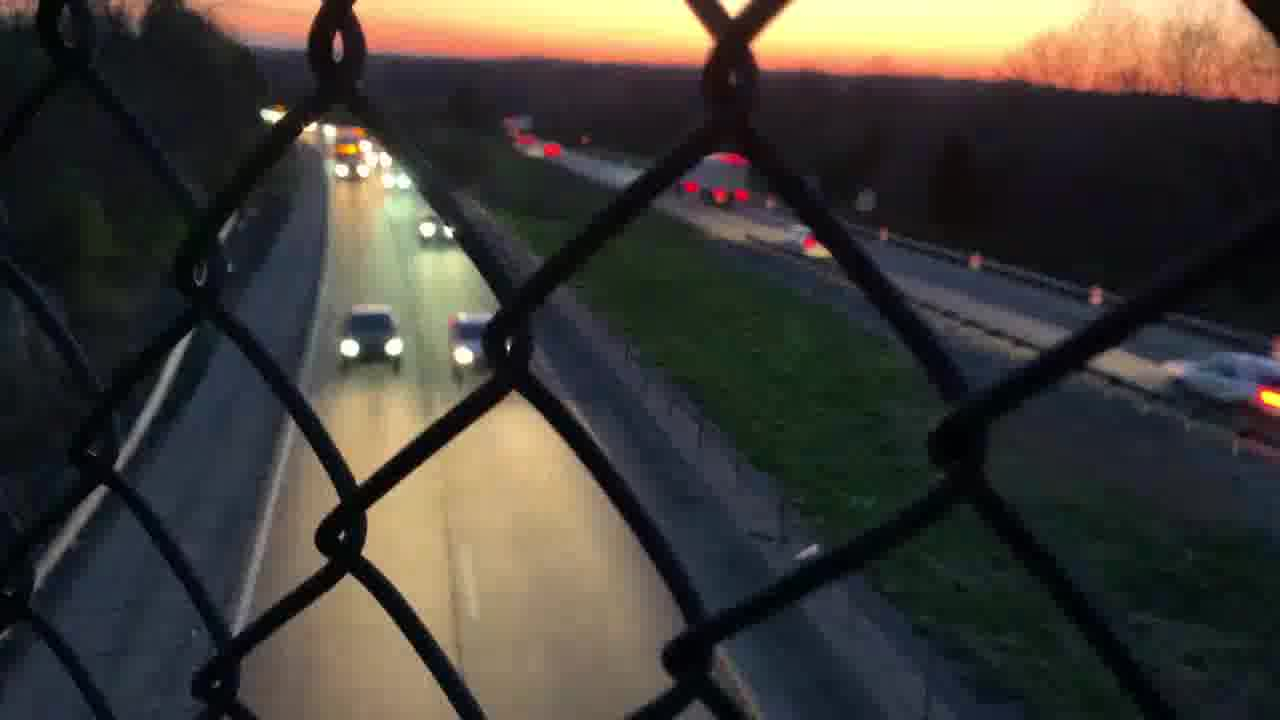largeCar: (1162, 345, 1280, 432)
lightTruck: (443, 310, 518, 382)
smallCar: (339, 304, 411, 374)
